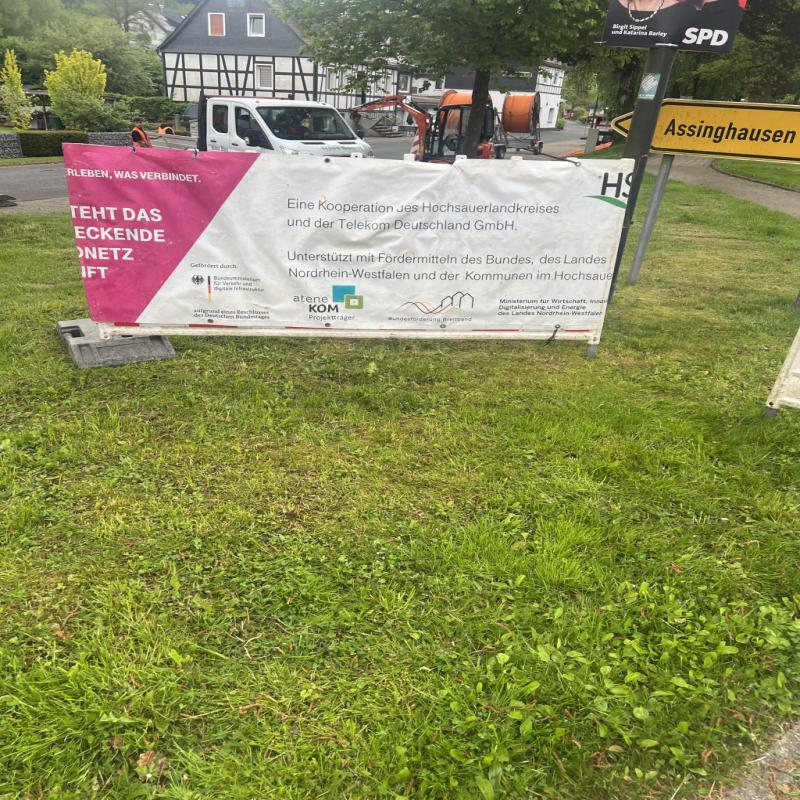Banner: (64, 145, 621, 337)
